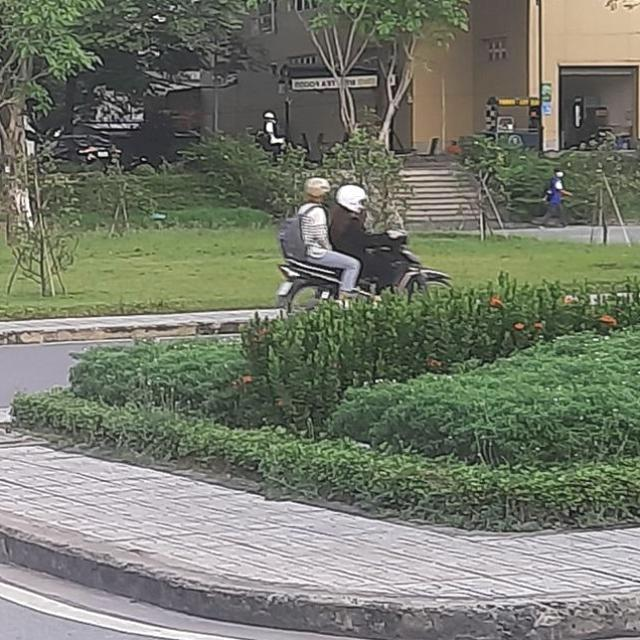Helmet: (333, 181, 371, 215)
